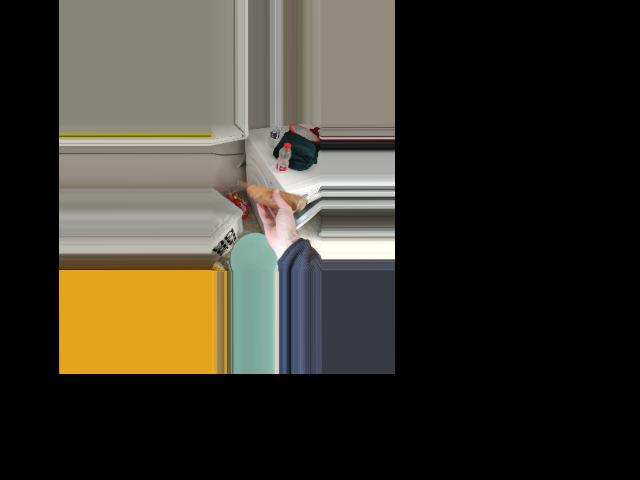sweet_potato: (239, 178, 303, 213)
